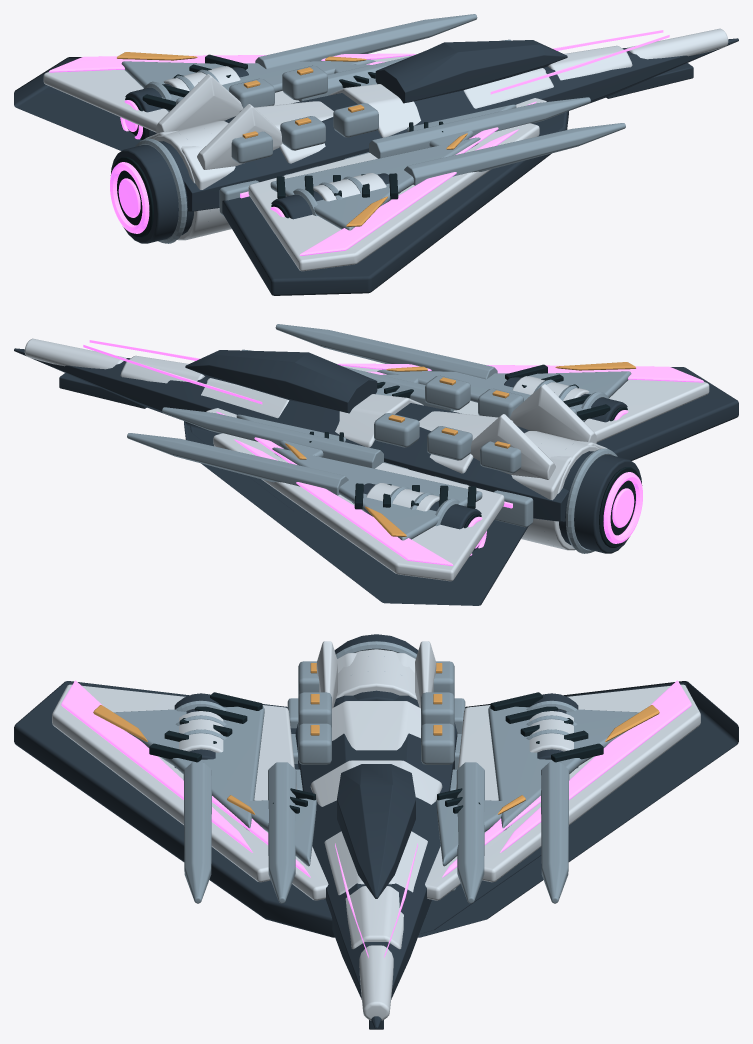
File: ship-12.glb
3 renders of one model, top to bottom at view 1: azimuth 30°, elevation 25°; view 2: azimuth 150°, elevation 25°; view 3: azimuth 270°, elevation 25°, orthographic. The views are drawn at different scales.
Parts seen in each view (by area): view 1: Graphite frame, Ceramic titanium, Machined silver, Ion violet, Carbon insets, Copper contacts; view 2: Graphite frame, Ceramic titanium, Machined silver, Ion violet, Carbon insets, Copper contacts; view 3: Graphite frame, Ceramic titanium, Machined silver, Ion violet, Carbon insets, Copper contacts.
Boxes of the visible parts, <box> form: Graphite frame: <box>14,38,738,295</box>; Ceramic titanium: <box>43,28,728,271</box>; Machined silver: <box>121,14,625,243</box>; Ion violet: <box>49,30,669,255</box>; Carbon insets: <box>112,54,443,237</box>; Copper contacts: <box>117,52,467,226</box>; Graphite frame: <box>14,348,738,605</box>; Ceramic titanium: <box>24,338,709,581</box>; Machined silver: <box>127,324,631,553</box>; Ion violet: <box>83,340,703,565</box>; Carbon insets: <box>309,364,640,550</box>; Copper contacts: <box>285,362,635,536</box>; Graphite frame: <box>14,634,738,1029</box>; Ceramic titanium: <box>52,641,700,1020</box>; Machined silver: <box>113,641,639,903</box>; Ion violet: <box>61,680,691,957</box>; Carbon insets: <box>149,692,603,813</box>; Copper contacts: <box>93,663,659,814</box>.
Size of the model in its own units: 5.51 by 1.14 by 4.71.
